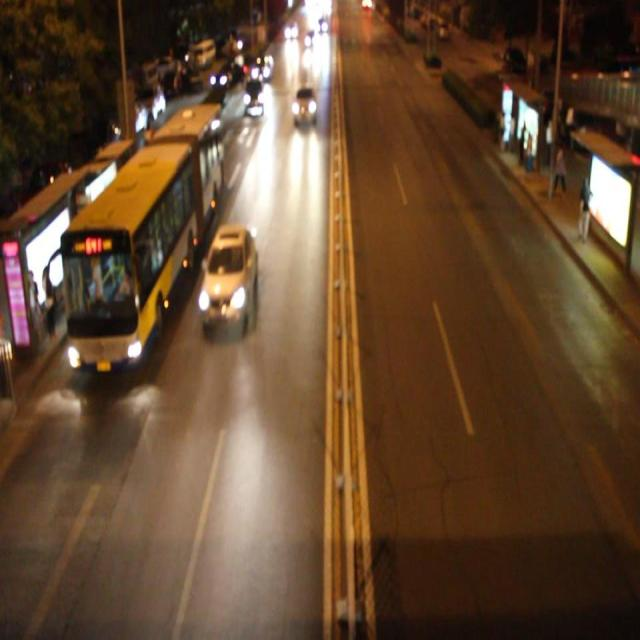car: (200, 228, 258, 324), (292, 84, 317, 121), (250, 53, 274, 83)
truck: (243, 74, 264, 109)
van: (64, 108, 221, 364)
